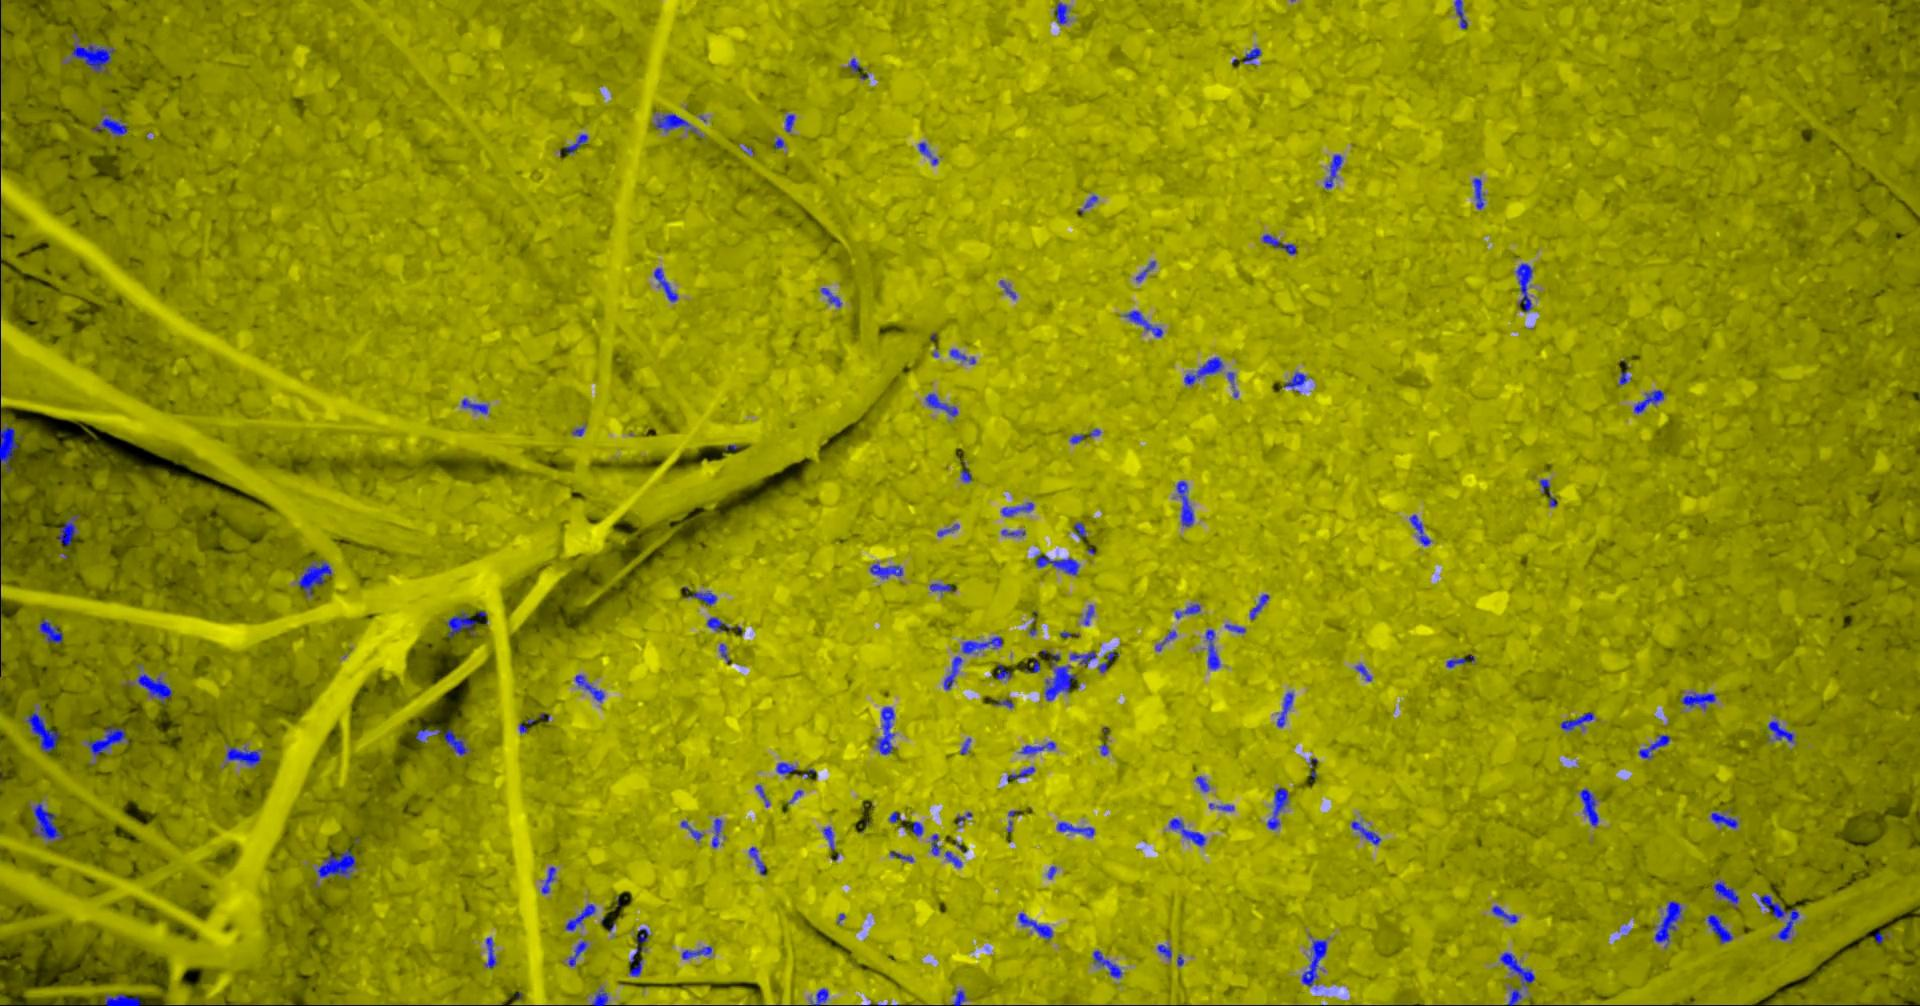ant: (1761, 894, 1801, 940), (1046, 653, 1078, 700), (72, 39, 116, 72), (27, 711, 61, 752), (1, 423, 23, 484), (1655, 901, 1683, 948), (89, 723, 128, 756), (1303, 939, 1330, 986), (1501, 951, 1537, 986), (298, 561, 333, 596), (33, 801, 63, 840), (317, 848, 357, 876), (138, 673, 174, 704), (1170, 818, 1208, 846), (1125, 310, 1164, 337), (1185, 357, 1224, 384), (1037, 553, 1081, 575), (877, 706, 897, 754), (1020, 912, 1054, 939), (1269, 788, 1290, 829), (631, 929, 650, 976), (655, 113, 698, 133), (655, 267, 679, 301), (577, 674, 606, 702), (1705, 915, 1735, 942), (1517, 263, 1534, 311), (1095, 950, 1123, 978), (568, 903, 597, 930), (1641, 734, 1671, 760), (927, 392, 959, 417), (1178, 480, 1195, 526), (1636, 389, 1666, 413), (1581, 788, 1600, 826), (227, 746, 263, 766), (1714, 880, 1740, 908), (448, 612, 477, 636), (93, 117, 130, 136), (1263, 234, 1298, 254), (963, 636, 1004, 653), (444, 727, 469, 754), (1352, 821, 1382, 843), (1411, 514, 1432, 545), (60, 514, 81, 545), (1562, 711, 1596, 730), (1683, 691, 1718, 709), (945, 655, 964, 688), (1058, 821, 1096, 837), (1326, 154, 1343, 188), (1277, 692, 1295, 727), (1769, 720, 1796, 742), (1208, 629, 1222, 669), (41, 619, 63, 643), (569, 940, 588, 967), (871, 563, 904, 578), (1021, 741, 1057, 754), (1493, 904, 1519, 923), (1098, 650, 1120, 672), (1008, 766, 1036, 782), (750, 846, 767, 874), (1251, 594, 1270, 619), (688, 589, 717, 605), (1003, 502, 1035, 516), (1542, 479, 1558, 506), (1712, 812, 1738, 828), (1157, 630, 1178, 650), (566, 133, 589, 152), (919, 141, 938, 164), (1285, 371, 1308, 390), (105, 993, 142, 1005), (1137, 260, 1157, 281), (822, 287, 843, 306), (682, 821, 703, 840), (463, 398, 489, 413), (1176, 603, 1201, 619), (1070, 650, 1097, 664), (543, 866, 557, 893), (683, 946, 712, 959), (1457, 0, 1469, 28), (951, 349, 977, 363), (486, 937, 498, 968), (811, 987, 830, 1005), (1057, 0, 1070, 24), (709, 617, 733, 631), (1474, 177, 1484, 210), (417, 728, 442, 741), (712, 818, 723, 847), (1244, 47, 1262, 64), (946, 850, 963, 868), (778, 762, 797, 777), (824, 826, 836, 850), (997, 663, 1013, 680), (593, 988, 610, 1005), (1509, 987, 1523, 1005), (891, 851, 916, 861), (1357, 664, 1373, 680), (521, 718, 536, 733), (952, 989, 968, 1005), (909, 821, 924, 835), (1158, 944, 1173, 958), (1076, 522, 1088, 539), (1197, 775, 1210, 791), (1448, 657, 1468, 667), (1084, 605, 1095, 624), (1210, 803, 1236, 810), (931, 583, 952, 592), (1225, 624, 1247, 633), (932, 835, 941, 855), (786, 114, 796, 131), (963, 465, 973, 481), (1003, 528, 1026, 535)
